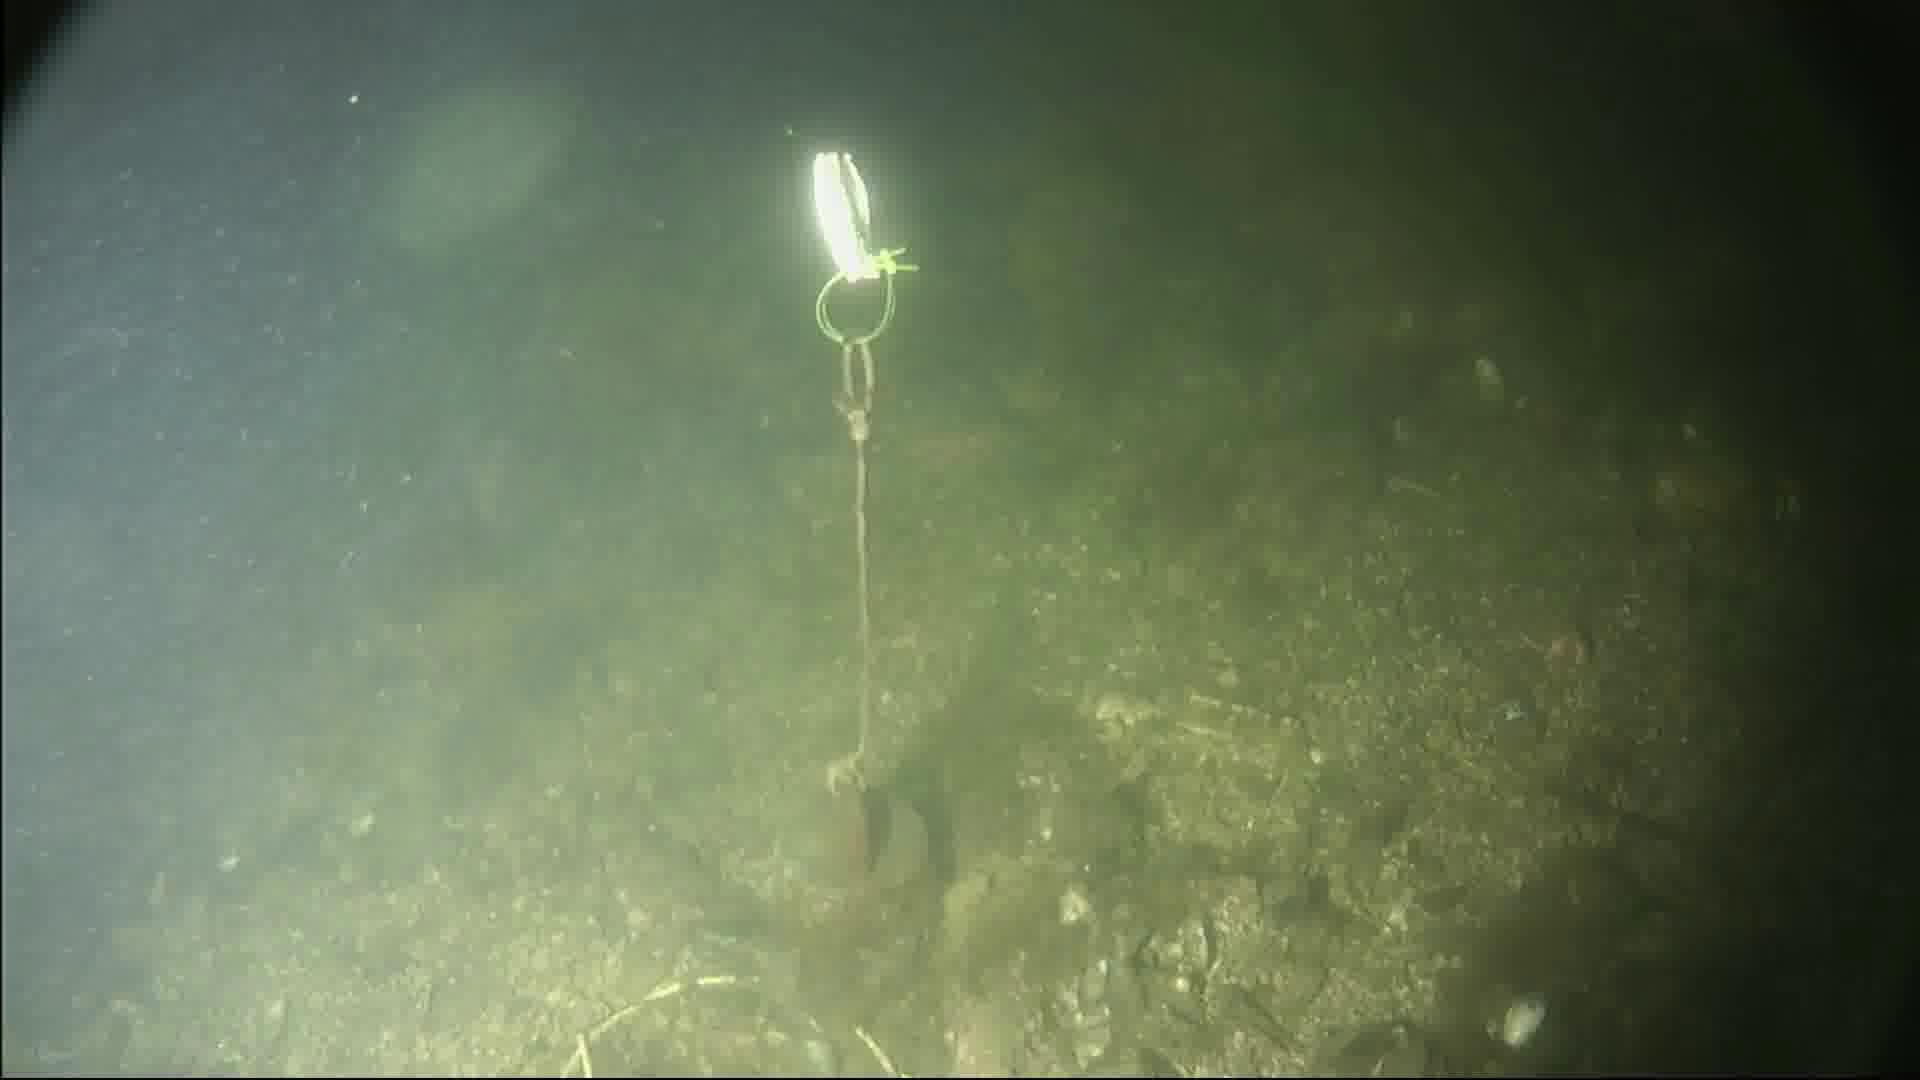fish: (383, 79, 585, 235)
